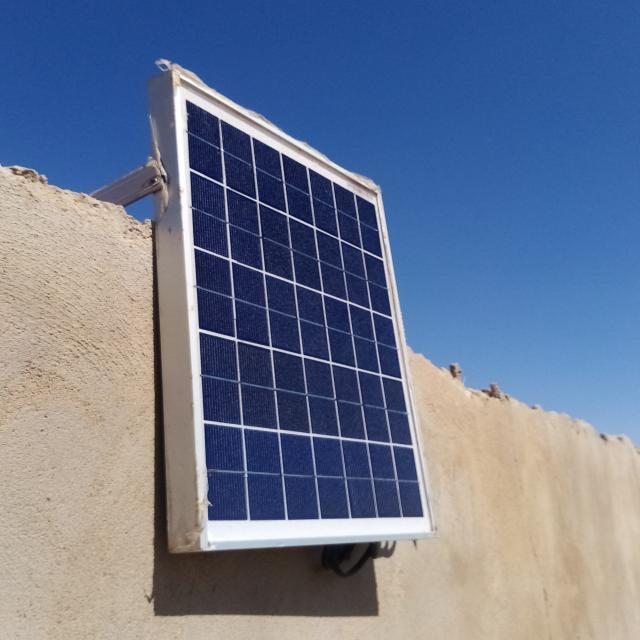Normal Solar Panel: (178, 72, 435, 546)
